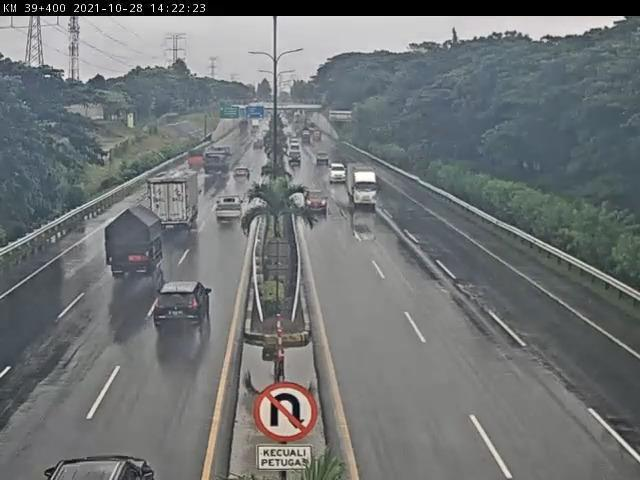car: (154, 283, 213, 327), (214, 195, 244, 224), (303, 188, 329, 214), (329, 164, 349, 183), (235, 167, 252, 181)
truck: (105, 206, 165, 277), (145, 170, 201, 230), (349, 164, 382, 210)
